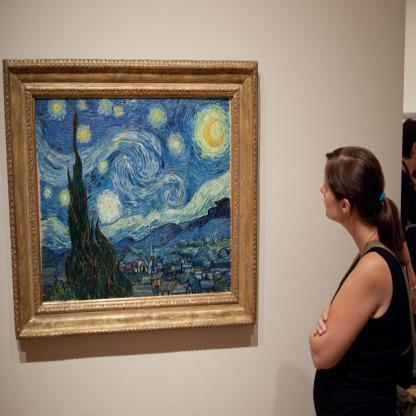Picture-frame: (4, 57, 263, 344)
